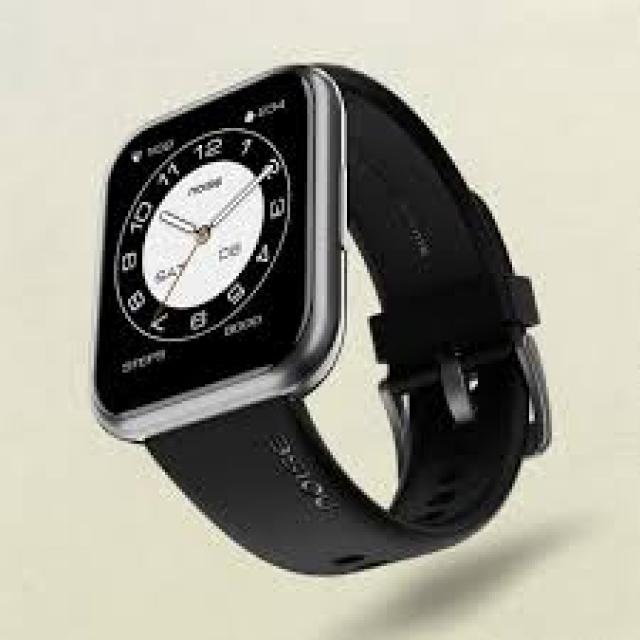objects: (92, 65, 549, 572)
